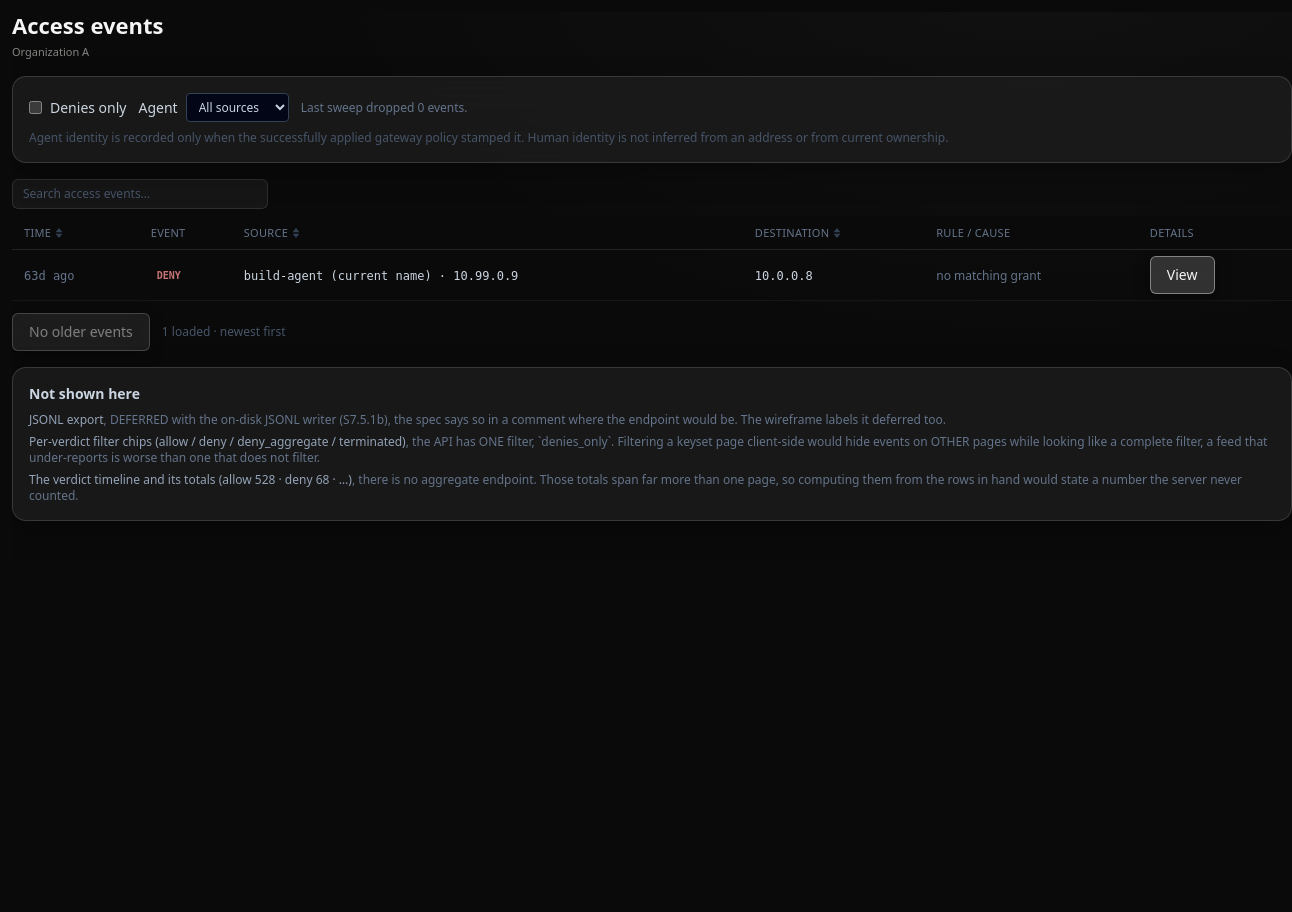
Test: released access-event agent attribution › filters server-side, renders applied facts, and clears them synchronously on org switch
Check: the text "build-agent (current name) · 10.99.0.9" is shown, box [244,269,518,283]
Select "build-agent" in the dropdown labelled "Agent" at [237, 108], box [186,93,289,122]
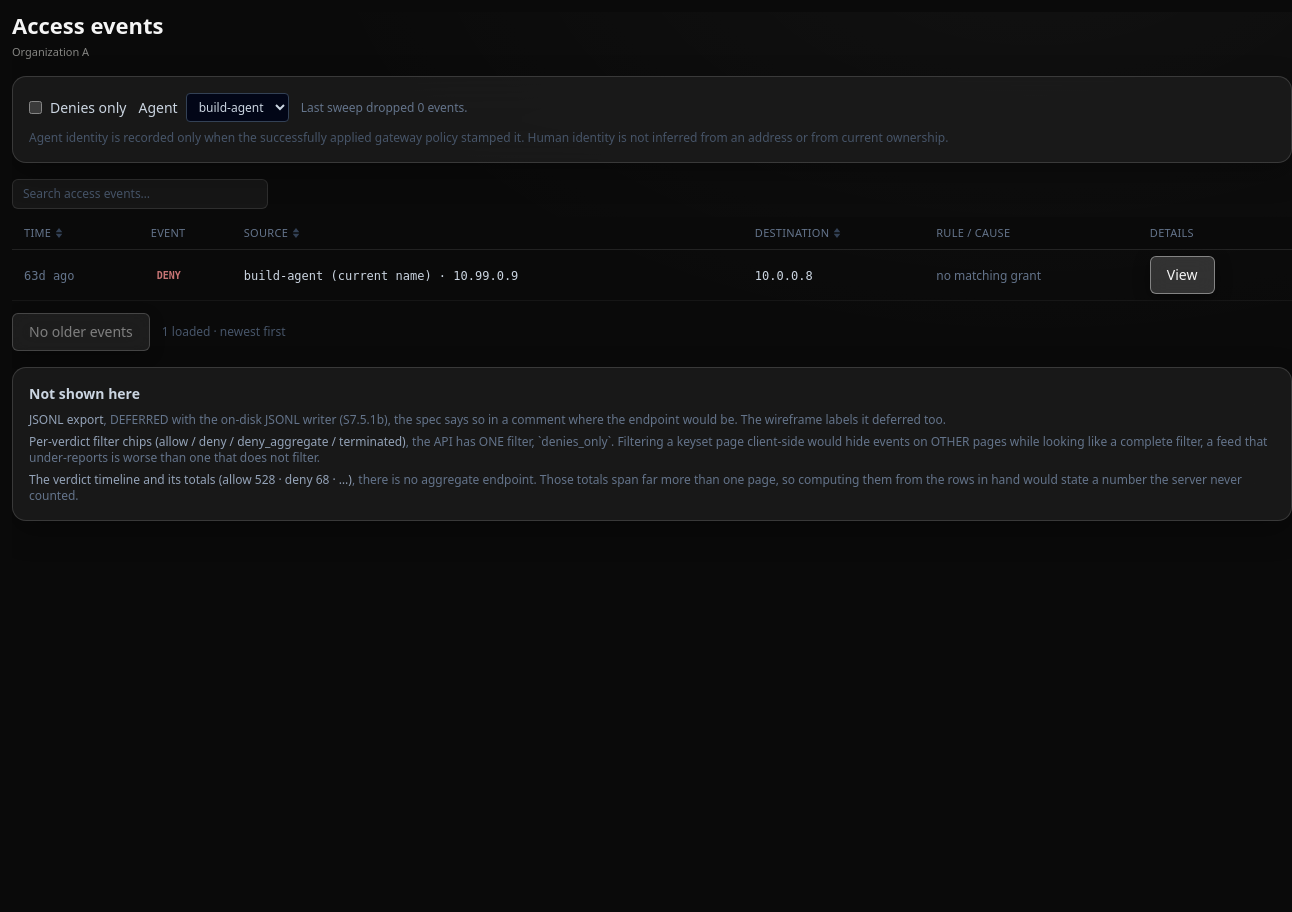
Click the button "View" at [1182, 275], box [1150,256,1214,294]
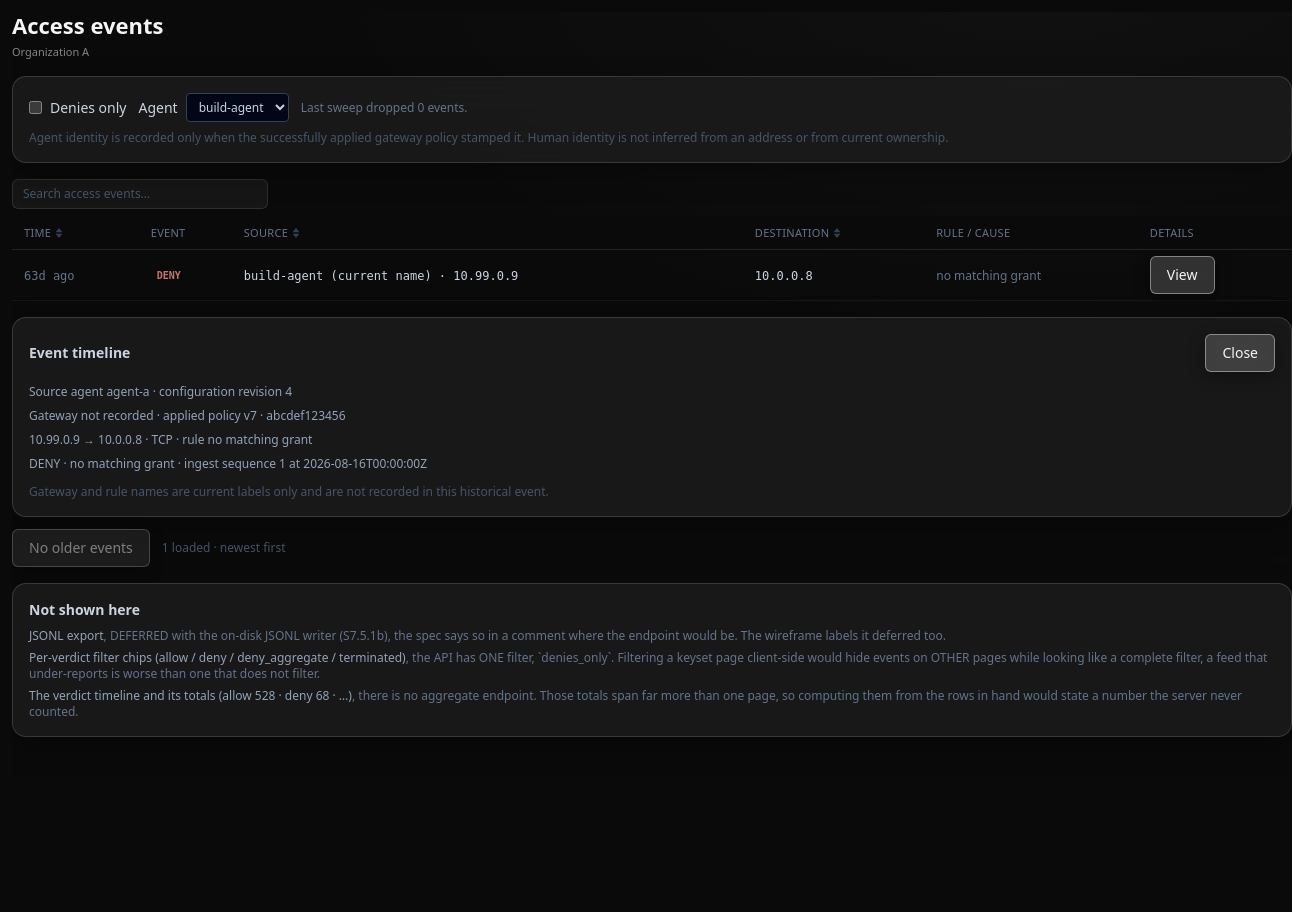
Check: the list item "Gateway not recorded · applied policy v7 · abcdef123456" is shown, box [29,407,346,424]
Check: the list item "Source agent agent-a · configuration revision 4" is shown, box [29,383,292,400]
